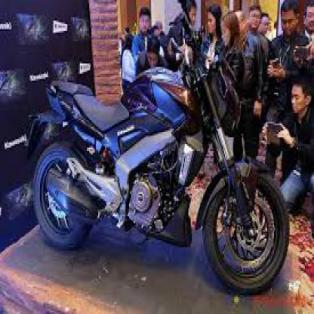Motocicleta: (31, 44, 291, 292)
